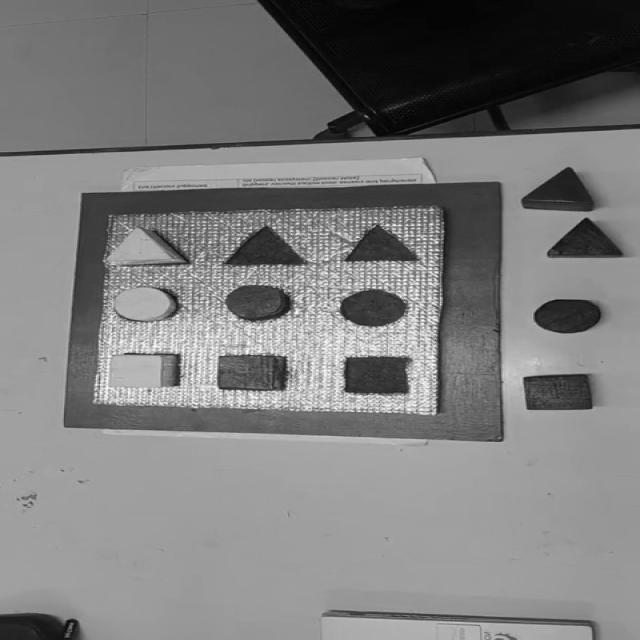bcircle: (533, 299, 601, 333)
bcube: (522, 373, 592, 410)
btriangle: (548, 218, 625, 258)
mtcircle: (339, 289, 407, 326)
mtcube: (341, 356, 411, 395)
mttriangle: (224, 225, 307, 266), (342, 224, 421, 264)
rcircle: (224, 284, 289, 320)
rcube: (217, 354, 286, 392)
rtriangle: (522, 167, 596, 212)
wb: (92, 205, 450, 415)
ycircle: (110, 286, 180, 322)
ycube: (107, 354, 179, 388)
ytriangle: (105, 227, 189, 266)
